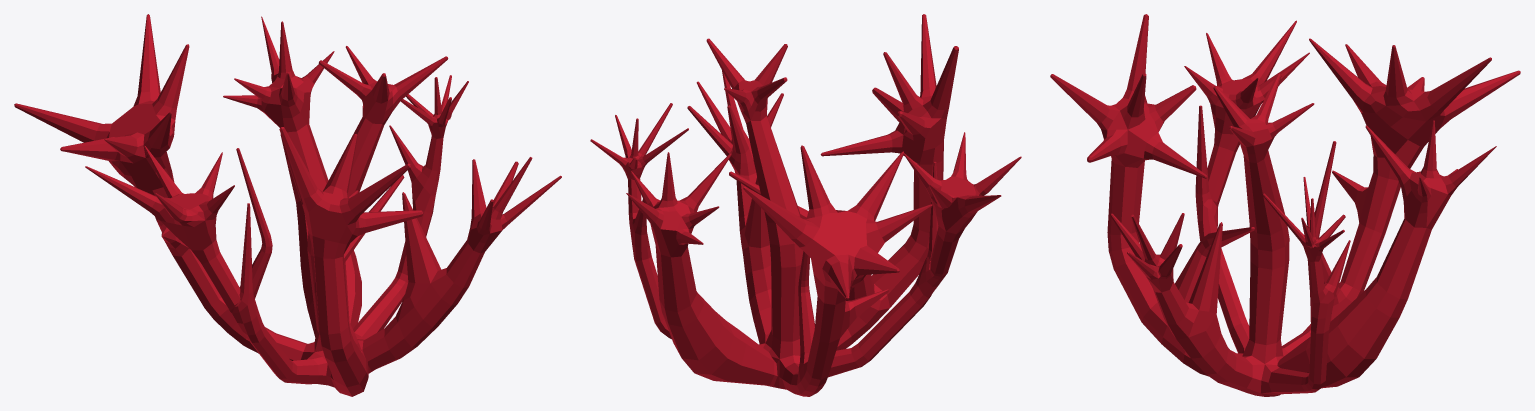
File: tree-dead-leaves-030.glb
3 renders of one model, left to right at view 1: azimuth 30°, elevation 25°; view 2: azimuth 150°, elevation 25°; view 3: azimuth 270°, elevation 25°, orthographic.
Visible parts, largest first — view 1: Plane.088_475; view 2: Plane.088_475; view 3: Plane.088_475.
Part boxes in pixels (x1,y1,x2,y2): Plane.088_475: [14, 14, 561, 396]; Plane.088_475: [590, 14, 1021, 396]; Plane.088_475: [1050, 14, 1520, 396].
Size of the model in its own units: 1.14 by 0.8953 by 1.19.
